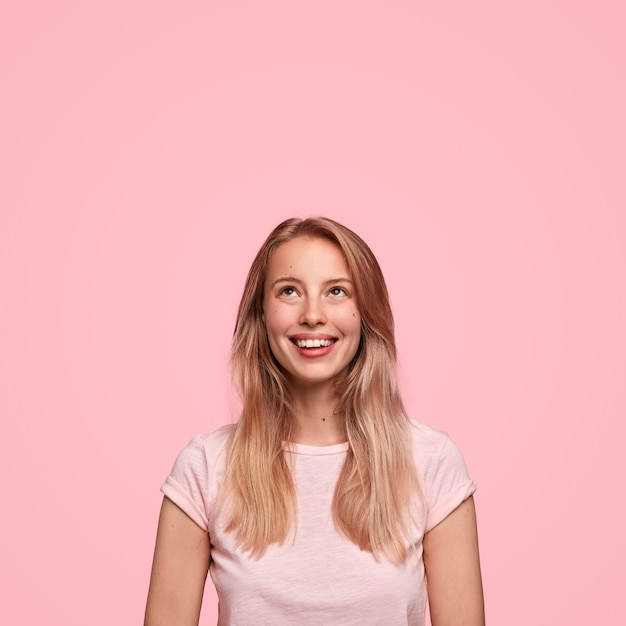teen: (232, 211, 389, 412)
